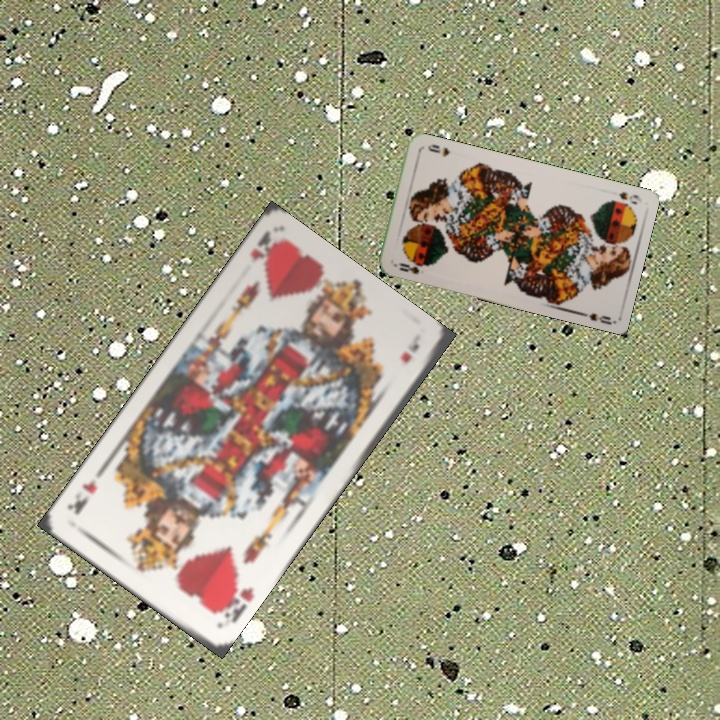HK: (211, 575, 256, 626), (246, 228, 283, 267)
SO: (615, 188, 641, 207), (394, 259, 422, 276)
